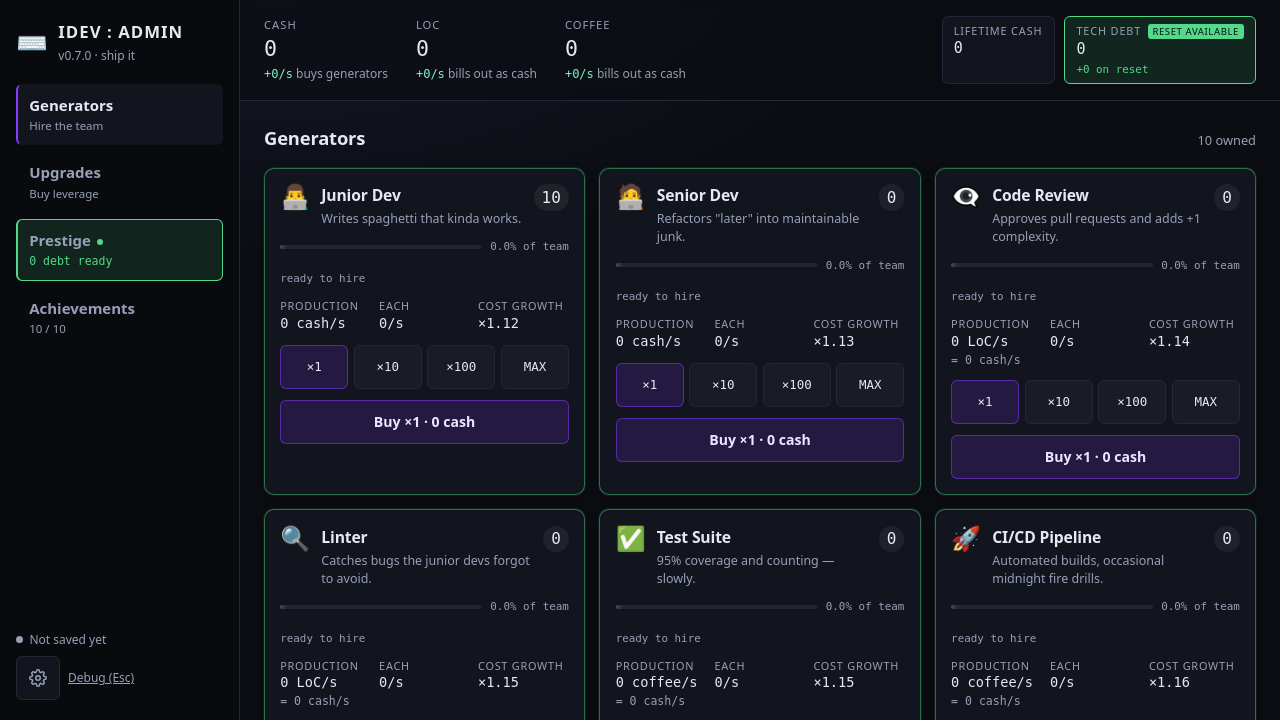
Scenario: App – save export and import › keeps the import button disabled with an empty field
Step 1. Click the button "Prestige 0 debt ready" → x=120, y=250, box [16, 219, 223, 280]
(page scrolled)
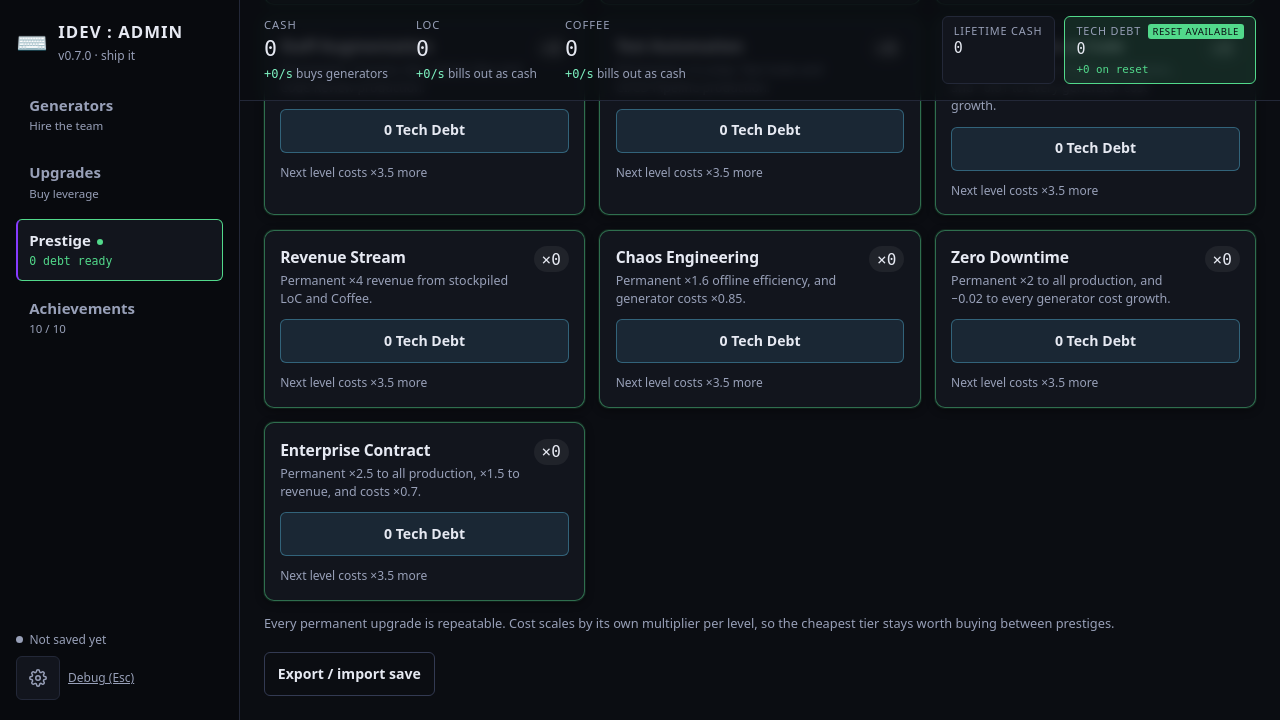
Step 2. Click the button "Export / import save" → x=349, y=674, box [264, 652, 435, 696]
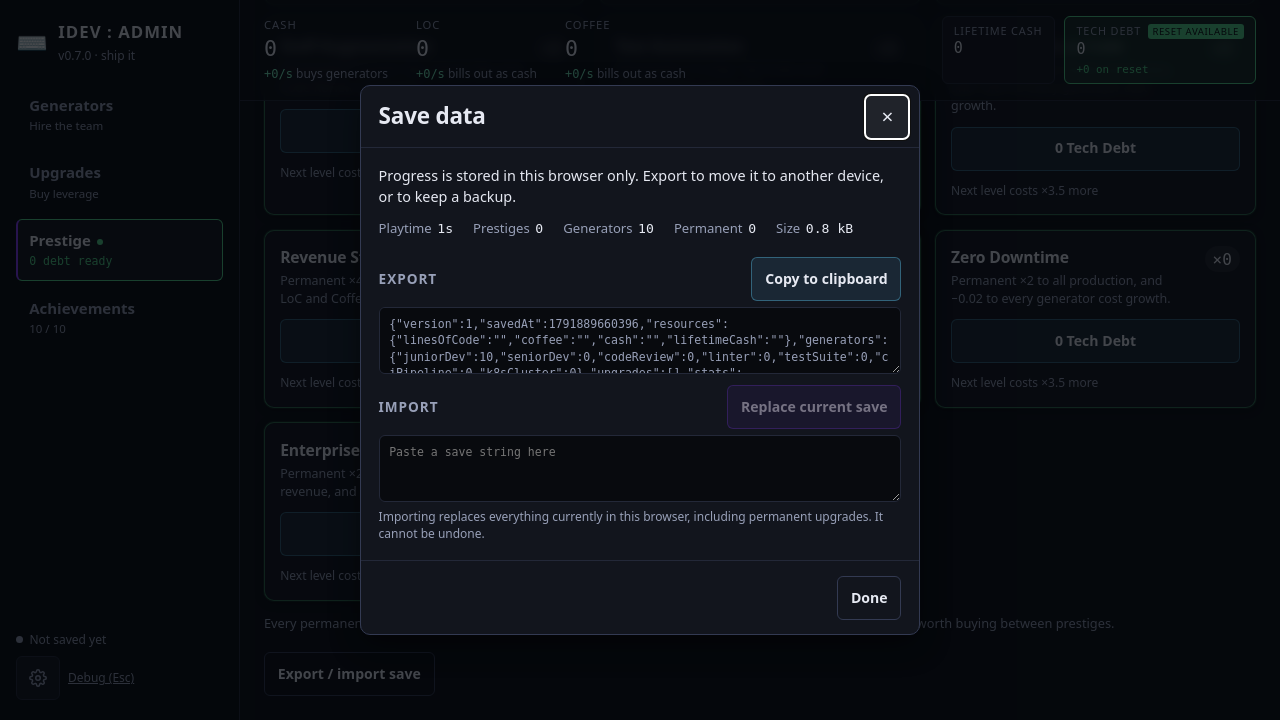
Check: the button "Replace current save" is disabled, box [727, 385, 901, 429]
